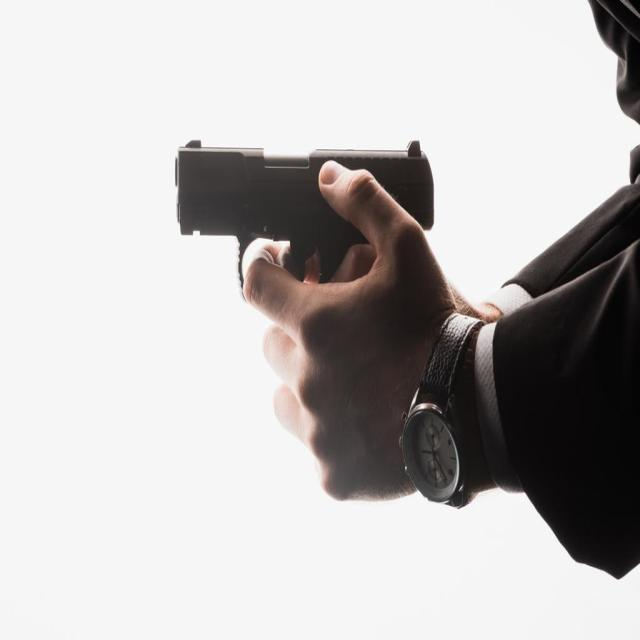HandGun: (177, 141, 434, 301)
